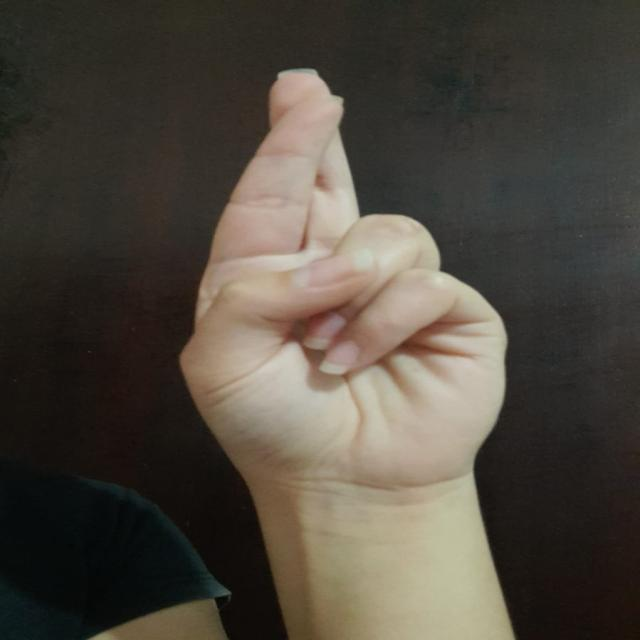R: (178, 64, 530, 486)
